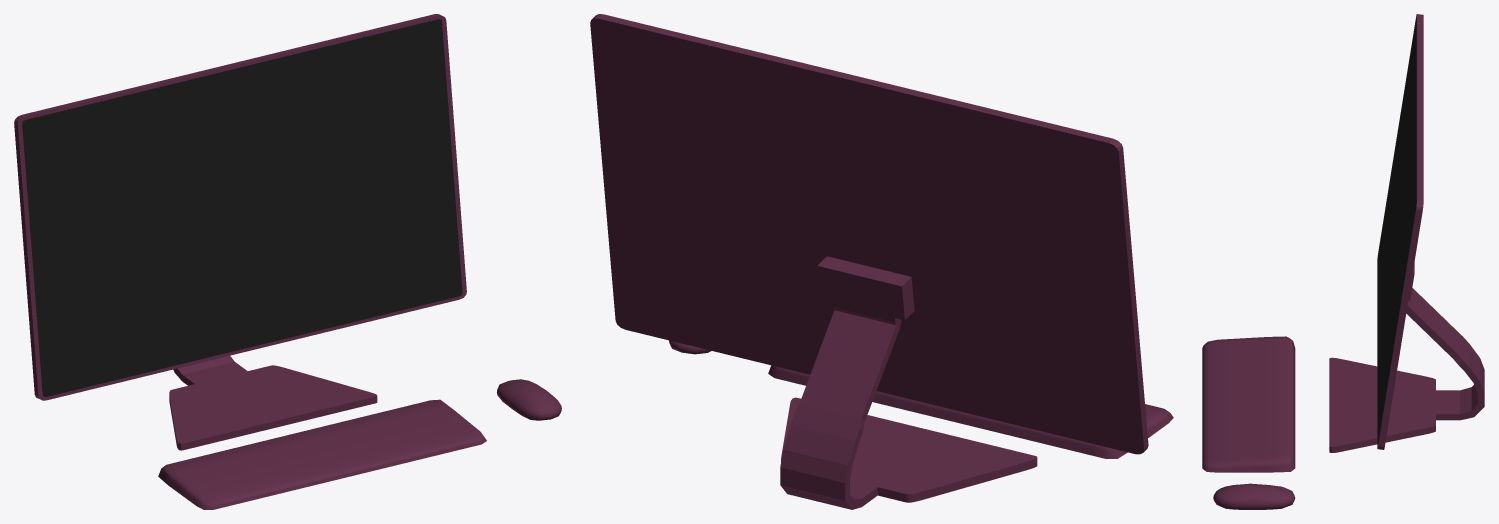
File: computer4.glb
3 renders of one model, left to right at view 1: azimuth 30°, elevation 25°; view 2: azimuth 150°, elevation 25°; view 3: azimuth 270°, elevation 25°, orthographic. The views are drawn at different scales.
Visible parts, largest first — view 1: monitiorscreen.object, computer.object; view 2: computer.object; view 3: computer.object, monitiorscreen.object.
Boxes of the visible parts, x1,y1,x2,y2 form: monitiorscreen.object: [22, 19, 462, 396]; computer.object: [14, 14, 561, 509]; computer.object: [590, 14, 1173, 509]; computer.object: [1202, 14, 1484, 509]; monitiorscreen.object: [1377, 18, 1416, 444].
Size of the model in its own units: 1.92 by 1.35 by 1.15.
